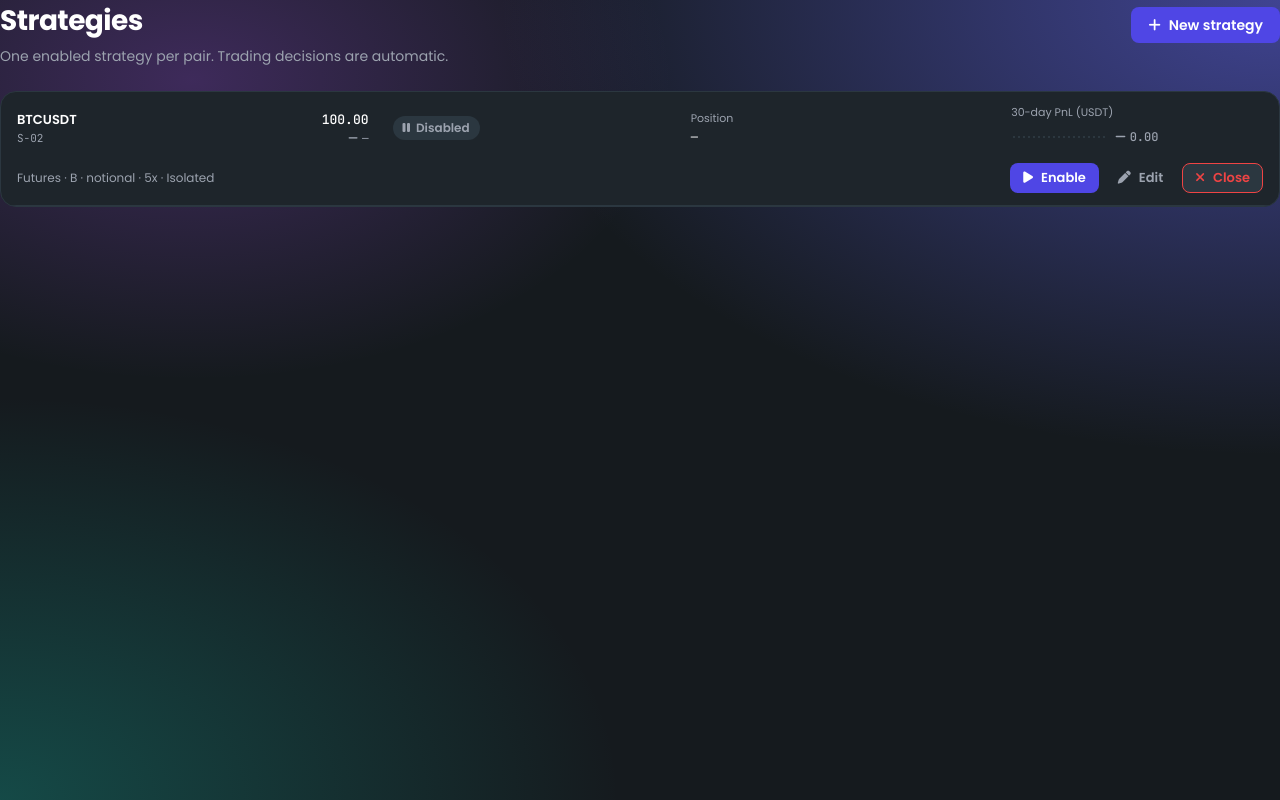
Test: Strategies page › enables a disabled strategy with a fresh TOTP code
The width and height of the screenshot is (1280, 800).
Step 1. Click the button "Enable" → (1055, 178), box 1010,162 -> 1099,192
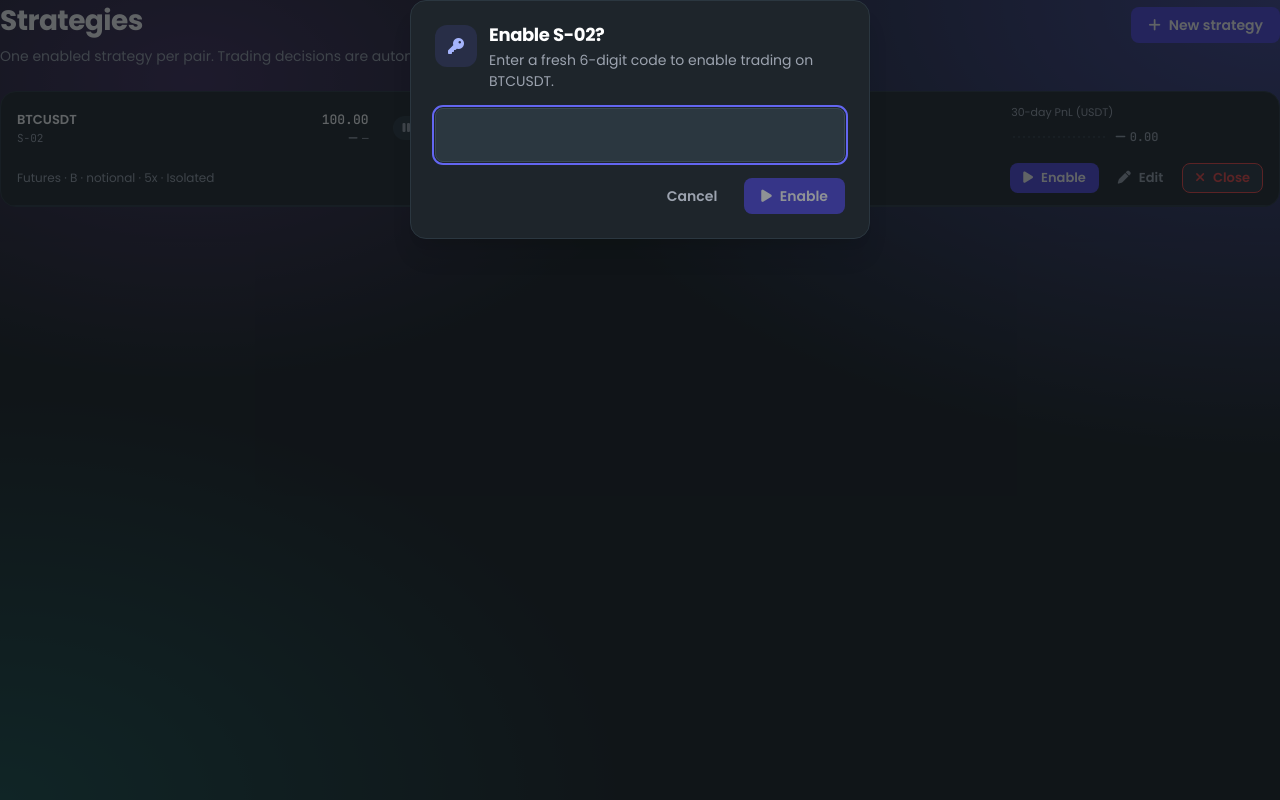
Result: the heading "Enable S-02?" is shown at 489,22 -> 604,47
Step 2. Type "123456" into the field named "Two-factor code" → (640, 135), box 435,108 -> 845,162
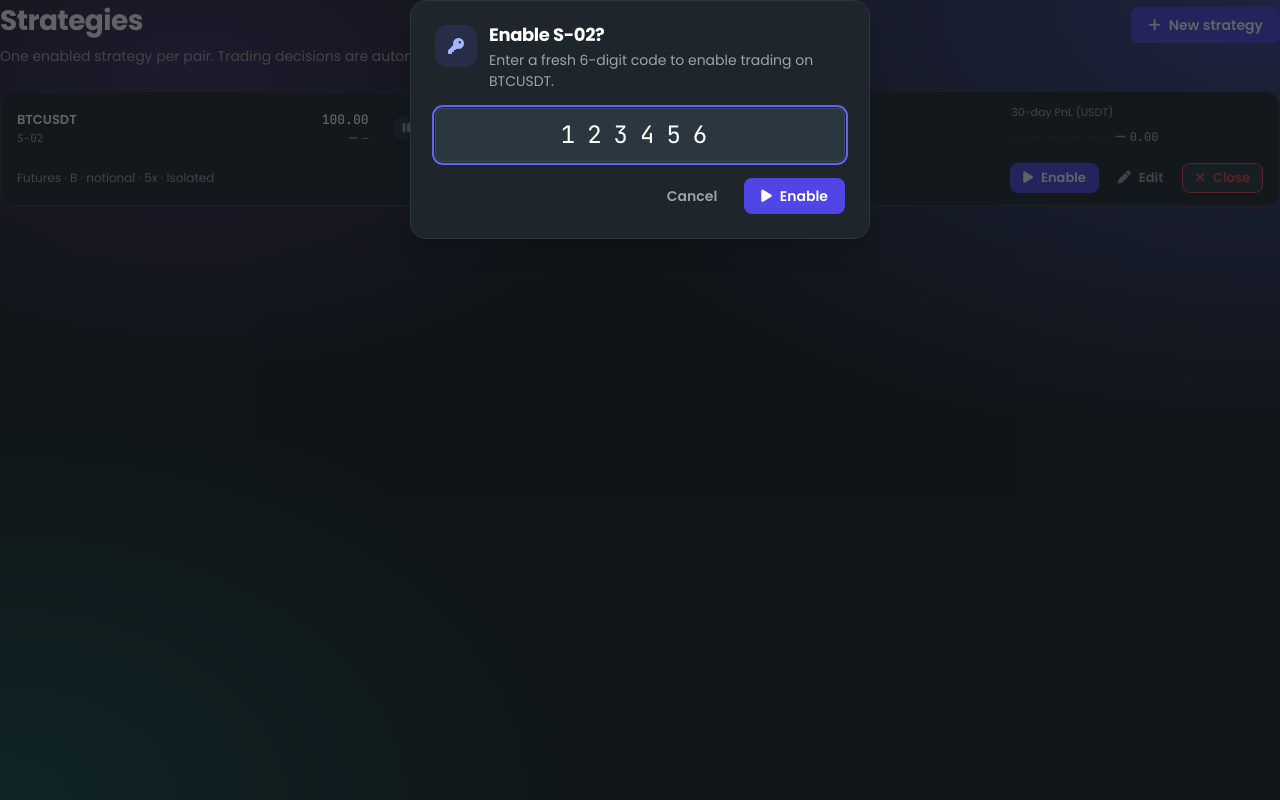
Step 3. Click the button "Enable" → (795, 196), box 744,178 -> 845,214
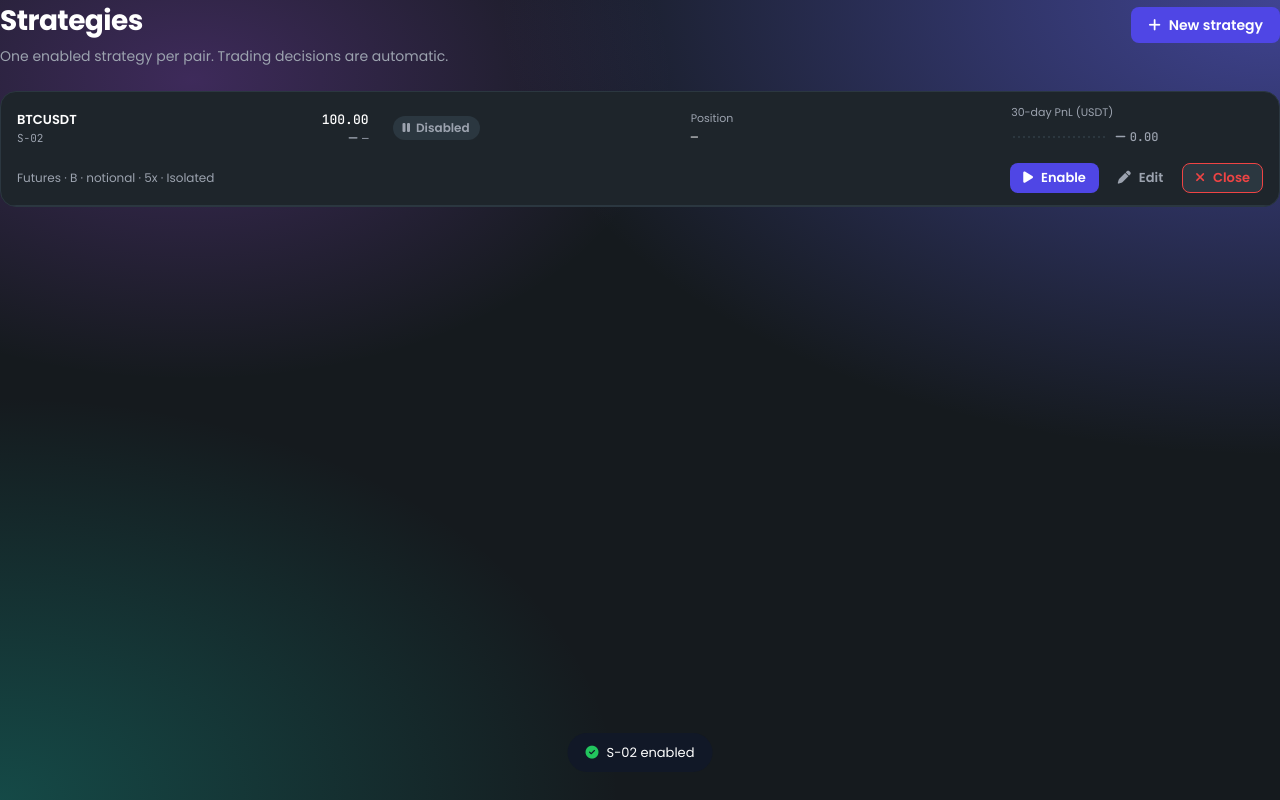
Result: the text "S-02 enabled" is shown at 568,732 -> 712,772
